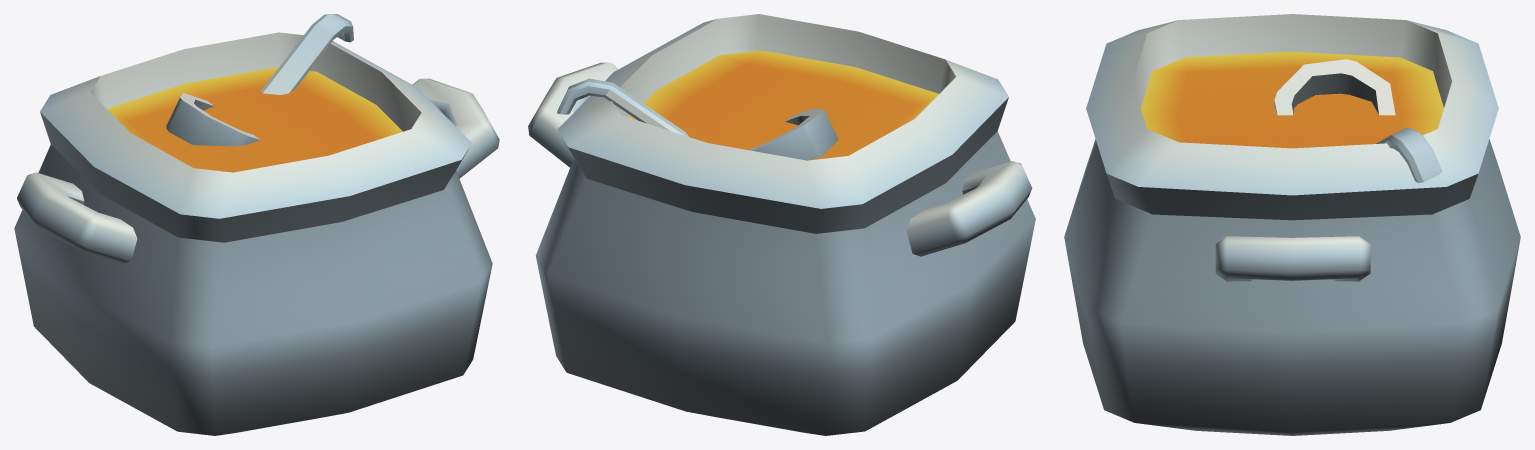
The model's file is pot_soup_full_laddle.fbx.
3 views of the same model, side by side, from view 1: azimuth 30°, elevation 25°; view 2: azimuth 150°, elevation 25°; view 3: azimuth 270°, elevation 25° (orthographic). The views are drawn at different scales.
Visible parts, largest first — view 1: pot_soup_full_laddle; view 2: pot_soup_full_laddle; view 3: pot_soup_full_laddle.
Part boxes in pixels (left/top/right/bottom): pot_soup_full_laddle: left=14, top=14, right=499, bottom=435; pot_soup_full_laddle: left=528, top=14, right=1035, bottom=435; pot_soup_full_laddle: left=1064, top=14, right=1520, bottom=435.
Bounding box in the file's own units: 67.56 × 41.09 × 54.13.
